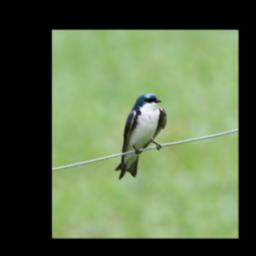Swallow: (97, 90, 180, 182)
